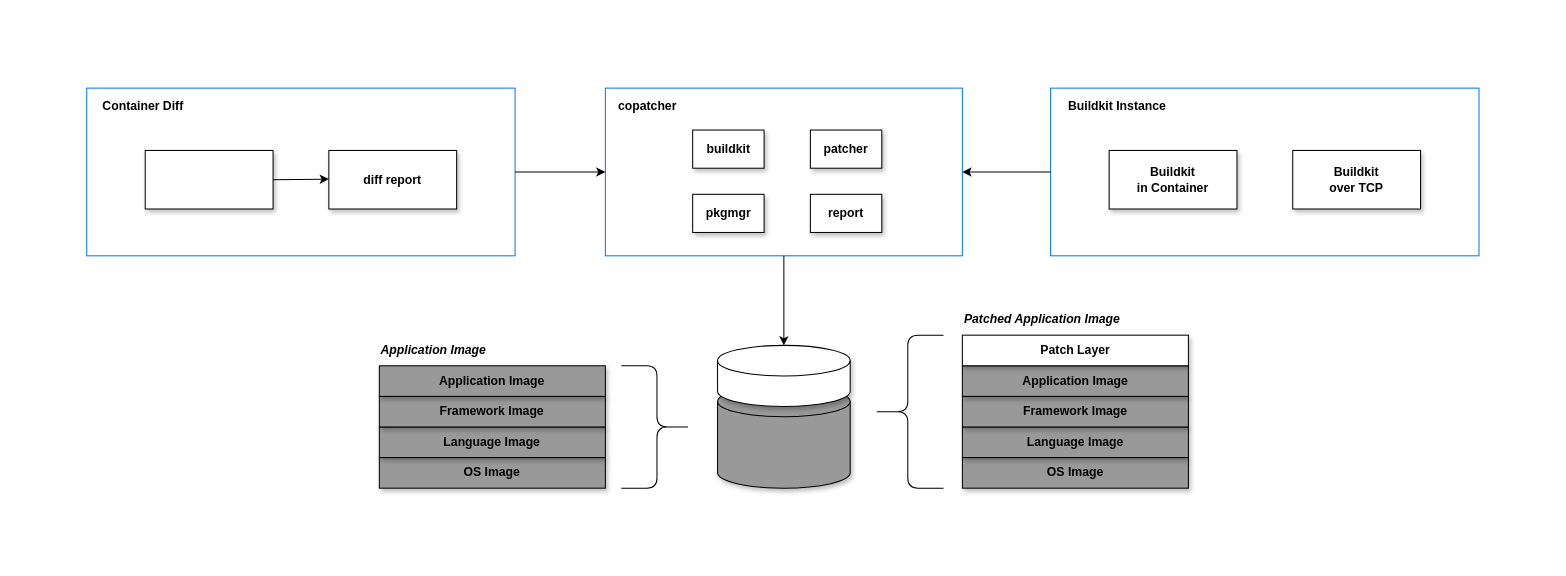
This 1566x576 diagram has some shape labels left out. Here are the shapes that lost their labels. From the top down, the centre of each, then its label:
At pixel 209 180: "container-diff".
At pixel 784 377: "Patch Diff".
At pixel 784 438: "Filesystem Bundle".
